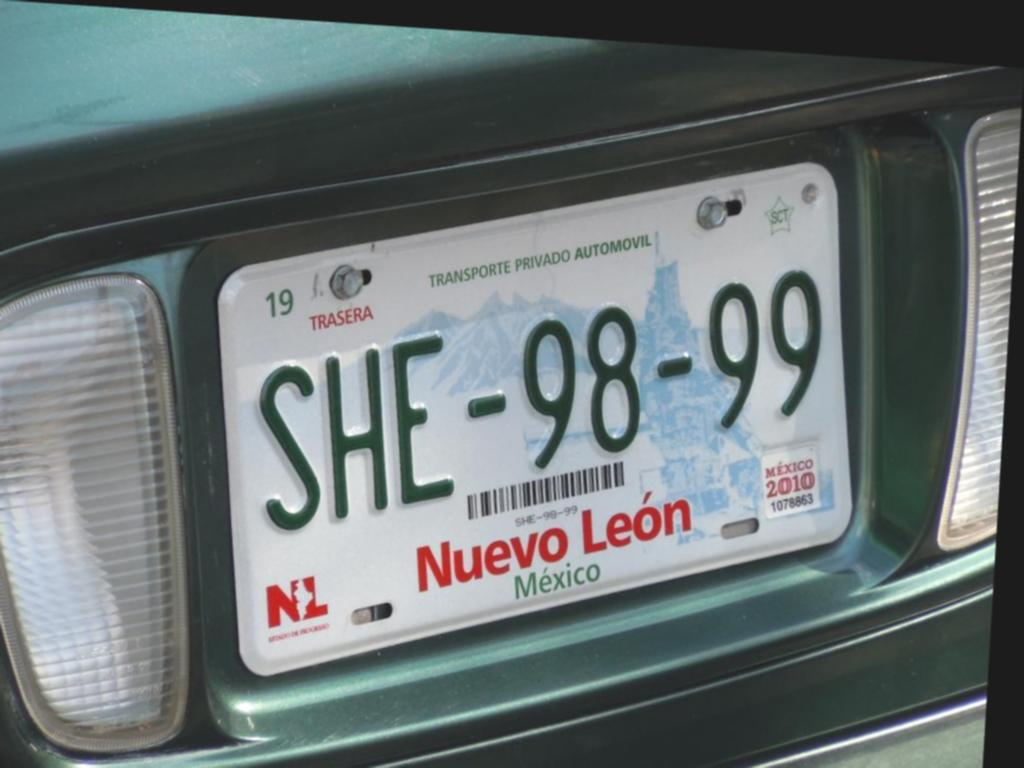License_Plate: (192, 121, 875, 716)
